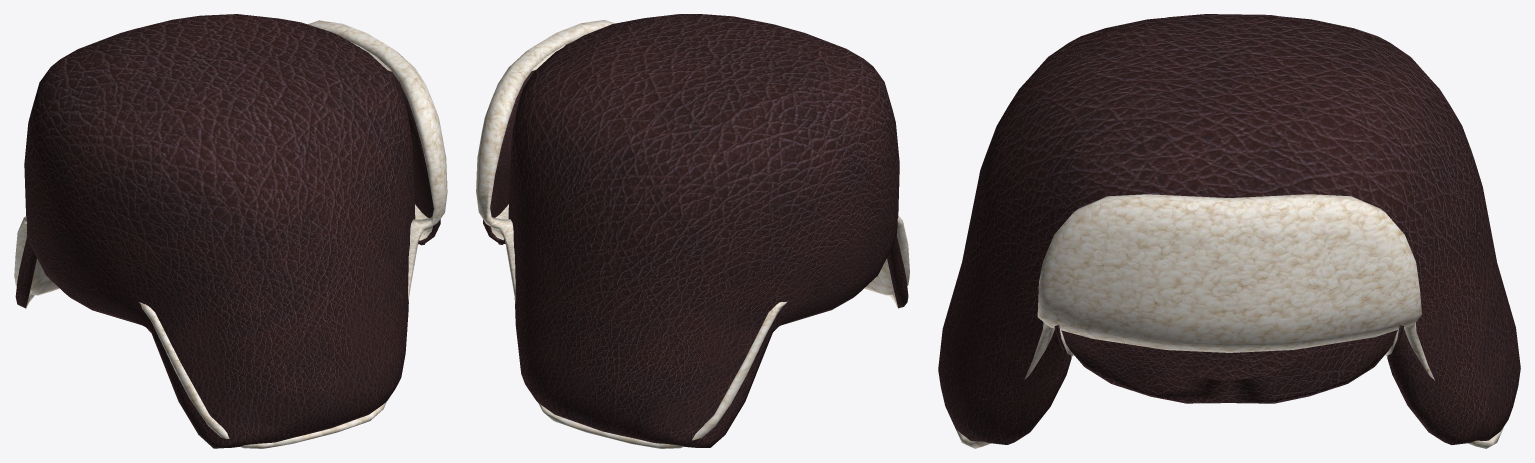
File: Ushanka.fbx
The picture shows the model from 3 angles, left to right: view 1: azimuth 30°, elevation 25°; view 2: azimuth 150°, elevation 25°; view 3: azimuth 270°, elevation 25°; orthographic projection. The views are drawn at different scales.
Visible parts, largest first — view 1: Цилиндр.003; view 2: Цилиндр.003; view 3: Цилиндр.003.
Part boxes in pixels (<box>): Цилиндр.003: <box>14,14,447,448</box>; Цилиндр.003: <box>476,14,909,448</box>; Цилиндр.003: <box>938,14,1520,448</box>.
Bounding box in the file's own units: 260 × 209 × 305.
Materials: 2 (2 with a texture image).
